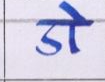e_matra: (59, 2, 89, 20)
